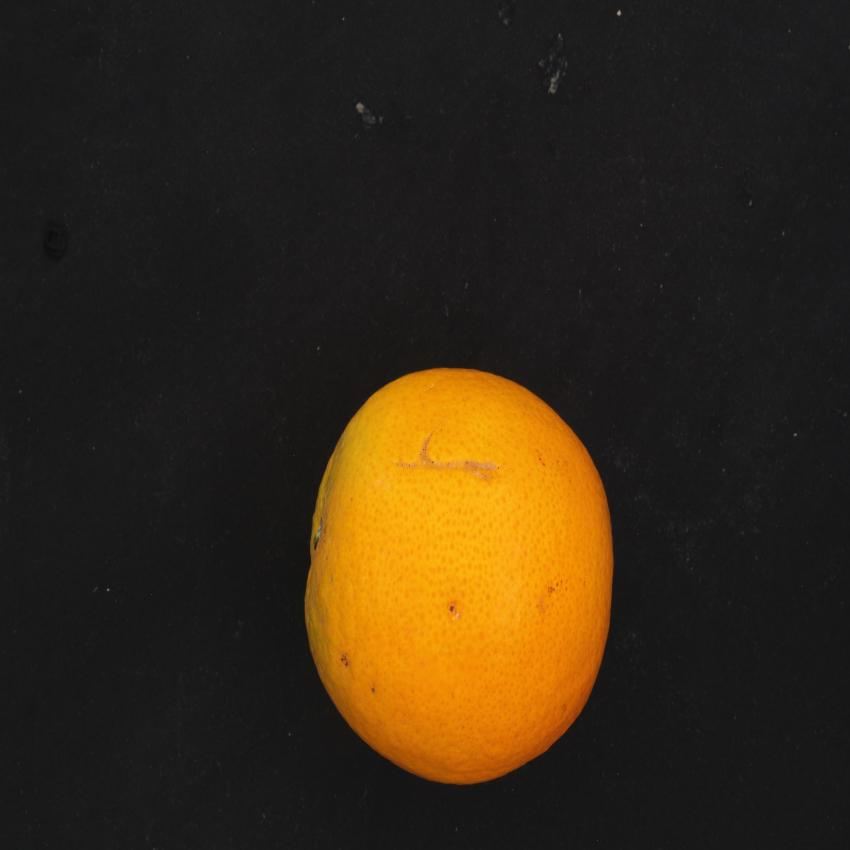Buen estado: (298, 351, 619, 795)
